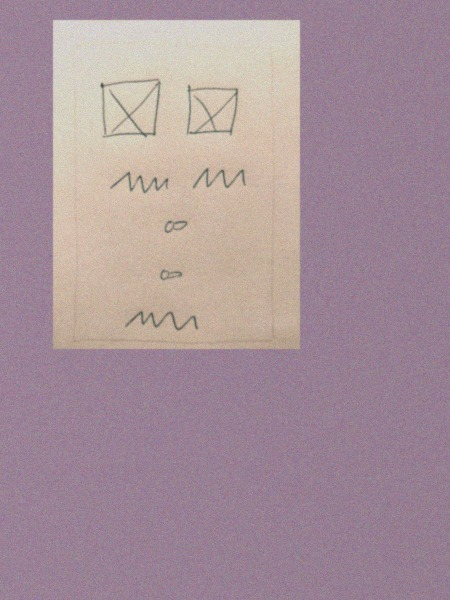image: (93, 77, 166, 140), (182, 79, 243, 141)
switch: (156, 214, 198, 238), (156, 265, 187, 284)
text: (119, 300, 205, 337), (104, 167, 176, 196), (188, 164, 251, 195)
